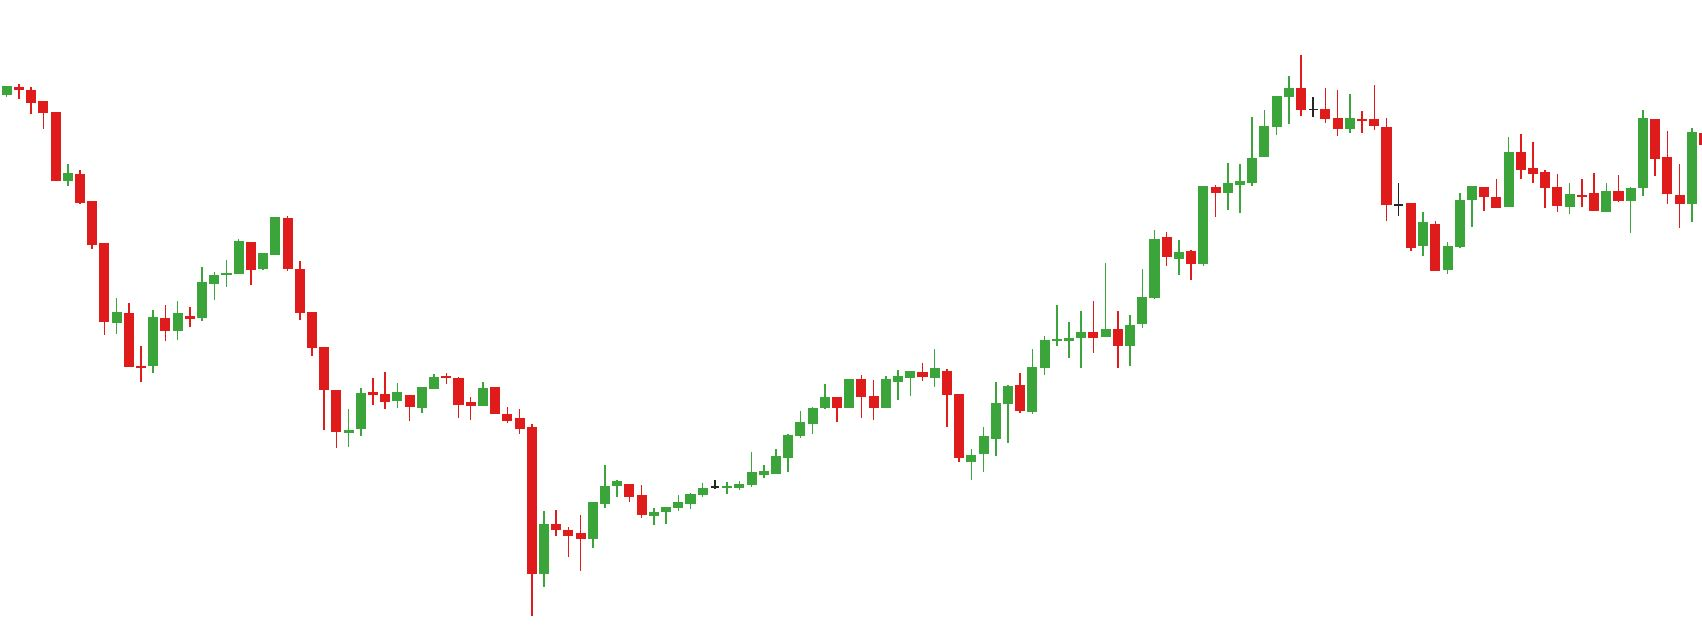sell: (1502, 108, 1661, 194)
